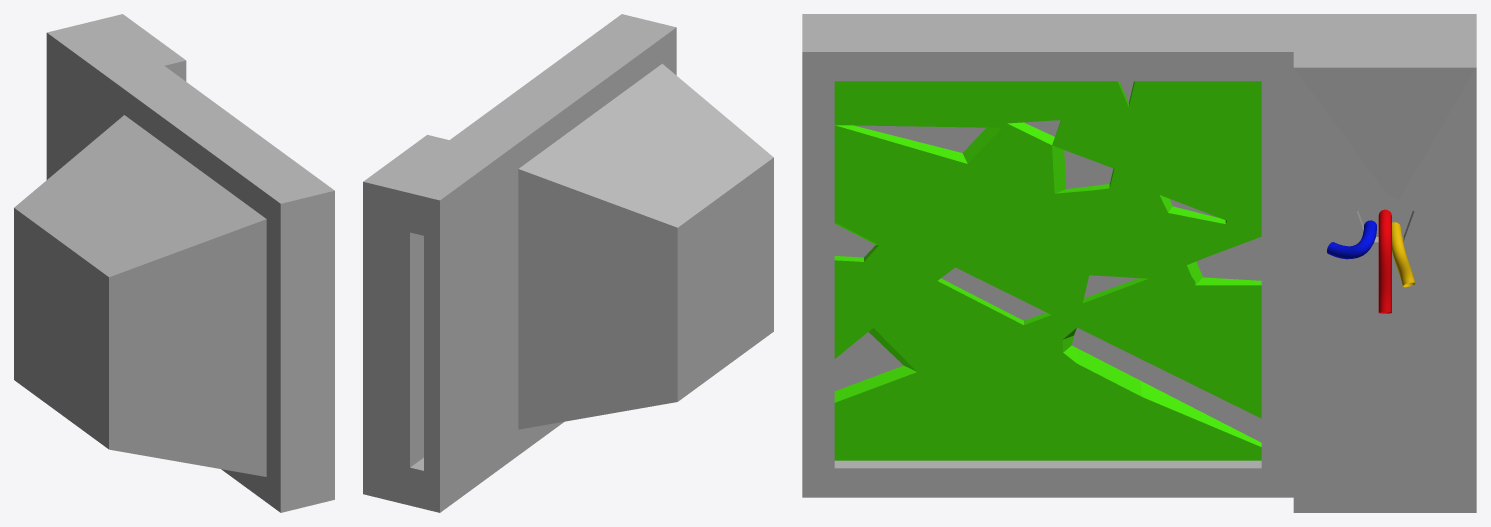
File: TEI_Problem_TV_BROKEN.fbx
3 views of the same model, side by side, from view 1: azimuth 30°, elevation 25°; view 2: azimuth 150°, elevation 25°; view 3: azimuth 270°, elevation 25° (orthographic). The views are drawn at different scales.
Parts seen in each view (by area): view 1: Box_Perfect.001; view 2: Box_Perfect.001; view 3: Box_Perfect.001, Plane, BézierCurve, BézierCurve.001, BézierCurve.002.
Part boxes in pixels (bbox=[...]): Box_Perfect.001: bbox=[14, 14, 334, 512]; Box_Perfect.001: bbox=[363, 14, 773, 512]; Box_Perfect.001: bbox=[802, 14, 1476, 512]; Plane: bbox=[834, 81, 1261, 460]; BézierCurve: bbox=[1378, 209, 1391, 313]; BézierCurve.001: bbox=[1327, 220, 1376, 259]; BézierCurve.002: bbox=[1392, 222, 1415, 287].
Bounding box in the file's own units: 119 × 149 × 205.
